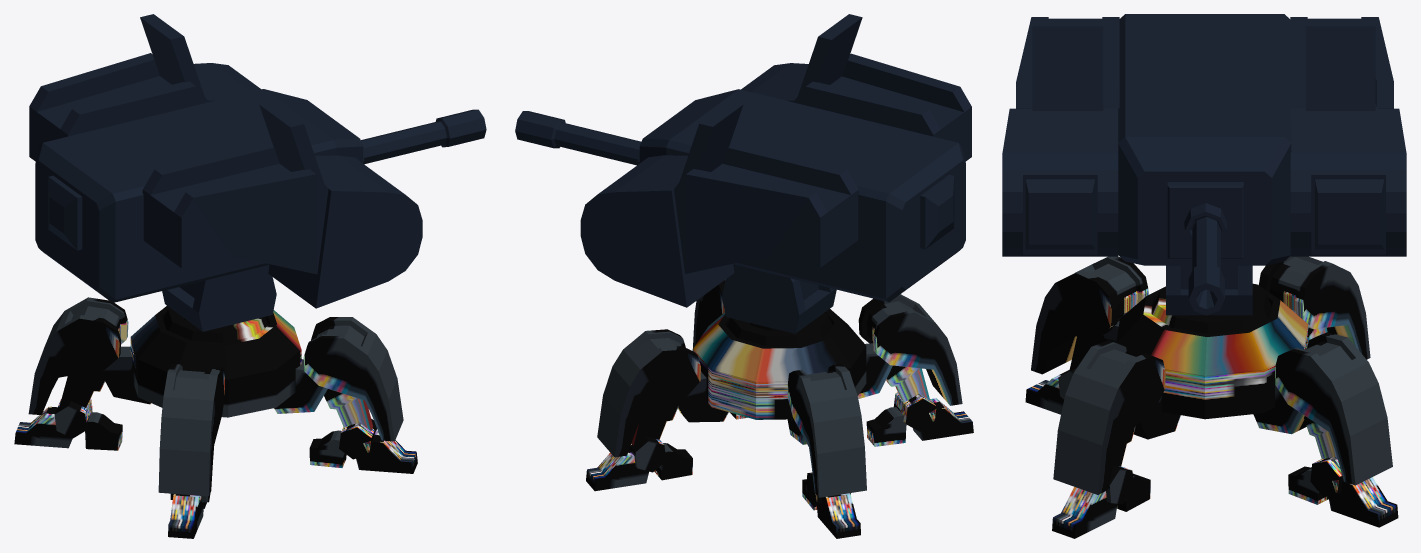
Rendered from Potap.fbx.
3 views of the same model, side by side, from view 1: azimuth 30°, elevation 25°; view 2: azimuth 150°, elevation 25°; view 3: azimuth 270°, elevation 25° (orthographic). The views are drawn at different scales.
Parts seen in each view (by area): view 1: DeaGal, MomDDong; view 2: DeaGal, MomDDong; view 3: DeaGal, MomDDong.
Boxes of the visible parts, x1,y1,x2,y2 form: DeaGal: [29, 14, 486, 331]; MomDDong: [14, 297, 417, 538]; DeaGal: [515, 14, 971, 333]; MomDDong: [586, 279, 973, 538]; DeaGal: [1002, 14, 1406, 315]; MomDDong: [1025, 256, 1398, 538].
Bounding box in the file's own units: 365 × 318 × 265.
